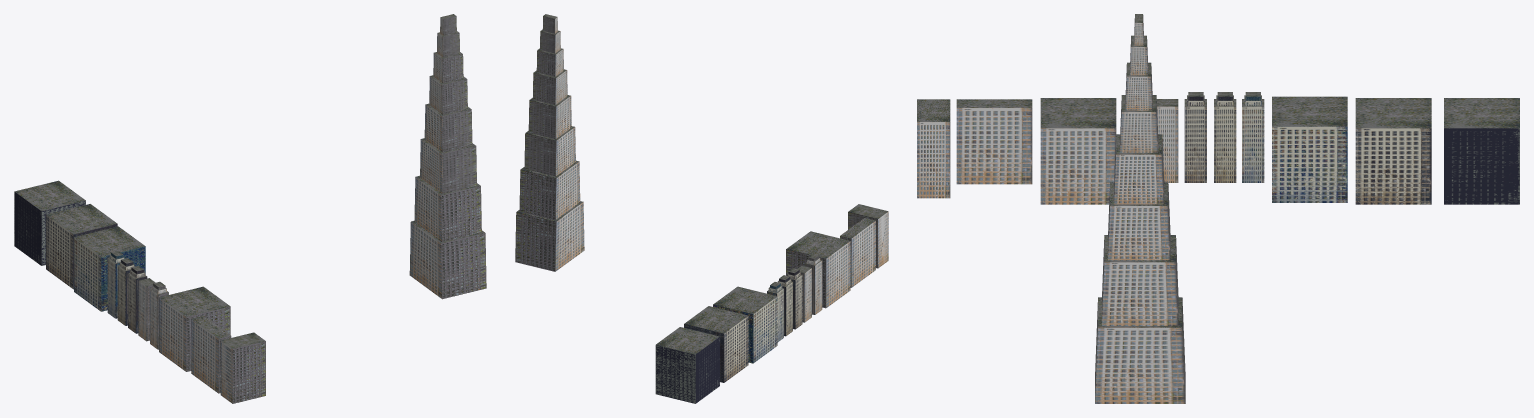
Rendered from PSX BUILDING SET 1.fbx.
The picture shows the model from 3 angles, left to right: view 1: azimuth 30°, elevation 25°; view 2: azimuth 150°, elevation 25°; view 3: azimuth 270°, elevation 25°; orthographic projection. The views are drawn at different scales.
Parts seen in each view (by area): view 1: pCube15, pCube4, pCube19, pCube21, pCube6, pCube20, pCube5, pCube16, pCube17, pCube1, pCube18, pCube3; view 2: pCube15, pCube21, pCube4, pCube20, pCube19, pCube5, pCube6, pCube3, pCube16, pCube17, pCube1, pCube18; view 3: pCube15, pCube20, pCube19, pCube21, pCube4, pCube5, pCube6, pCube16, pCube17, pCube18, pCube1.
Part boxes in pixels (x1,y1,x2,y2): pCube15: [409, 14, 486, 299]; pCube4: [159, 286, 230, 371]; pCube19: [74, 226, 145, 311]; pCube21: [14, 180, 85, 265]; pCube6: [220, 332, 265, 403]; pCube20: [46, 204, 117, 289]; pCube5: [191, 316, 231, 393]; pCube16: [128, 265, 147, 333]; pCube17: [117, 258, 134, 325]; pCube1: [138, 278, 155, 341]; pCube18: [107, 250, 124, 318]; pCube3: [150, 281, 168, 349]; pCube15: [515, 14, 584, 271]; pCube21: [655, 327, 719, 403]; pCube4: [786, 231, 850, 308]; pCube20: [684, 306, 748, 382]; pCube19: [713, 286, 777, 363]; pCube5: [840, 218, 875, 287]; pCube6: [848, 204, 888, 268]; pCube3: [805, 254, 822, 314]; pCube16: [787, 268, 802, 329]; pCube17: [777, 275, 792, 336]; pCube1: [798, 265, 811, 322]; pCube18: [767, 282, 783, 341]; pCube15: [1095, 14, 1185, 403]; pCube20: [1355, 98, 1431, 204]; pCube19: [1272, 96, 1347, 202]; pCube21: [1444, 98, 1519, 204]; pCube4: [1040, 98, 1116, 204]; pCube5: [956, 99, 1032, 184]; pCube6: [917, 99, 950, 198]; pCube16: [1184, 92, 1206, 182]; pCube17: [1214, 92, 1236, 182]; pCube18: [1242, 92, 1264, 182]; pCube1: [1156, 99, 1178, 182].
Size of the model in its own units: 1891 by 1491 by 2199.
Materials: 6 (6 with a texture image).
